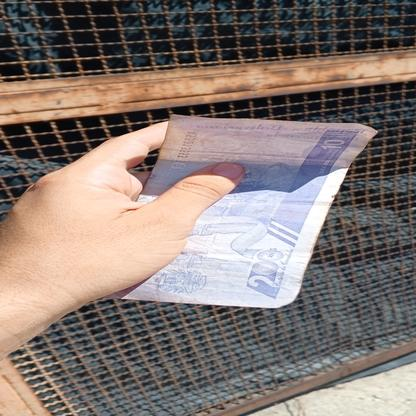ten-back-vef: (109, 114, 379, 309)
